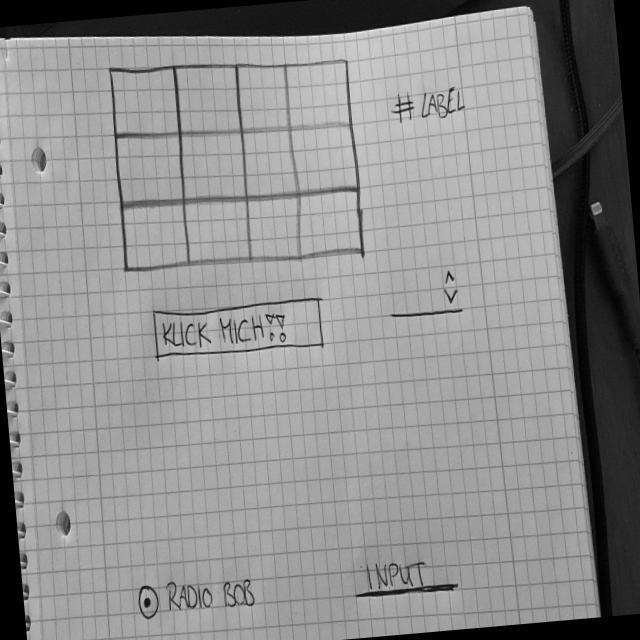button: (150, 294, 328, 367)
label: (350, 551, 463, 605), (390, 82, 470, 127)
number-input: (385, 270, 465, 323)
radio: (137, 571, 259, 625)
table: (107, 43, 370, 281)
